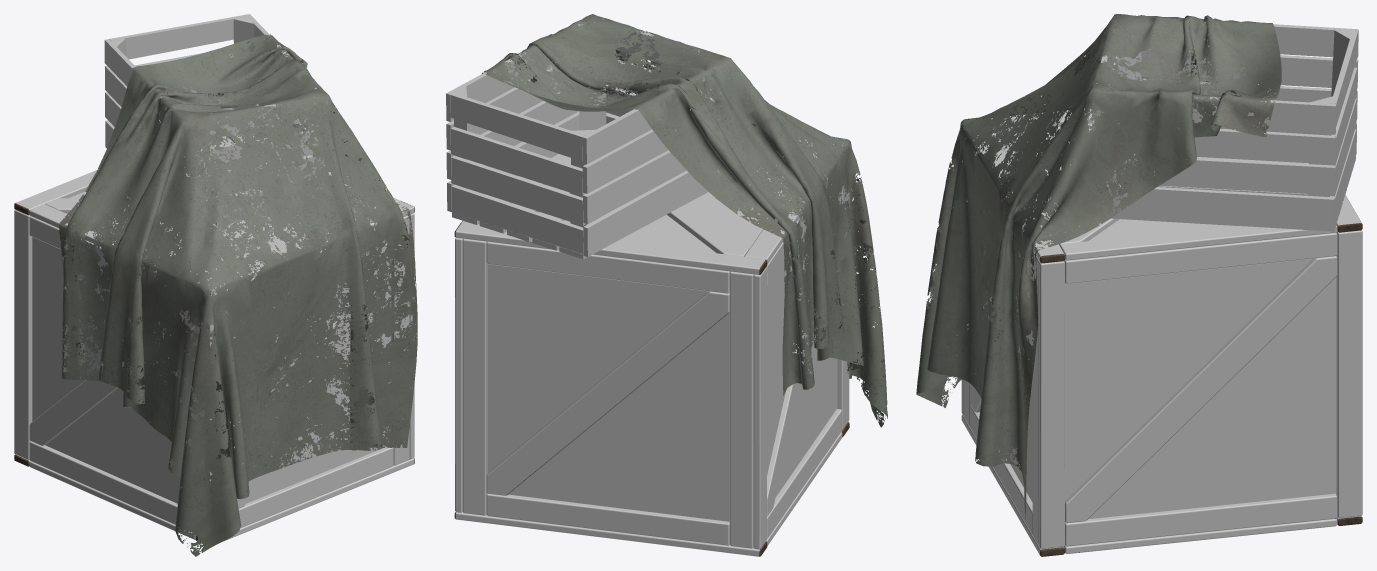
File: SM_Box_fabric_1_01.fbx
The picture shows the model from 3 angles, left to right: view 1: azimuth 30°, elevation 25°; view 2: azimuth 150°, elevation 25°; view 3: azimuth 270°, elevation 25°; orthographic projection. The views are drawn at different scales.
Visible parts, largest first — view 1: SM_Box_fabric_1_01_LOD0; view 2: SM_Box_fabric_1_01_LOD0; view 3: SM_Box_fabric_1_01_LOD0.
Boxes of the visible parts, box(x1,y1,x2,y2) form: SM_Box_fabric_1_01_LOD0: box(14, 14, 417, 556); SM_Box_fabric_1_01_LOD0: box(446, 14, 887, 556); SM_Box_fabric_1_01_LOD0: box(916, 14, 1362, 556).
Size of the model in its own units: 96.74 by 108 by 115.
